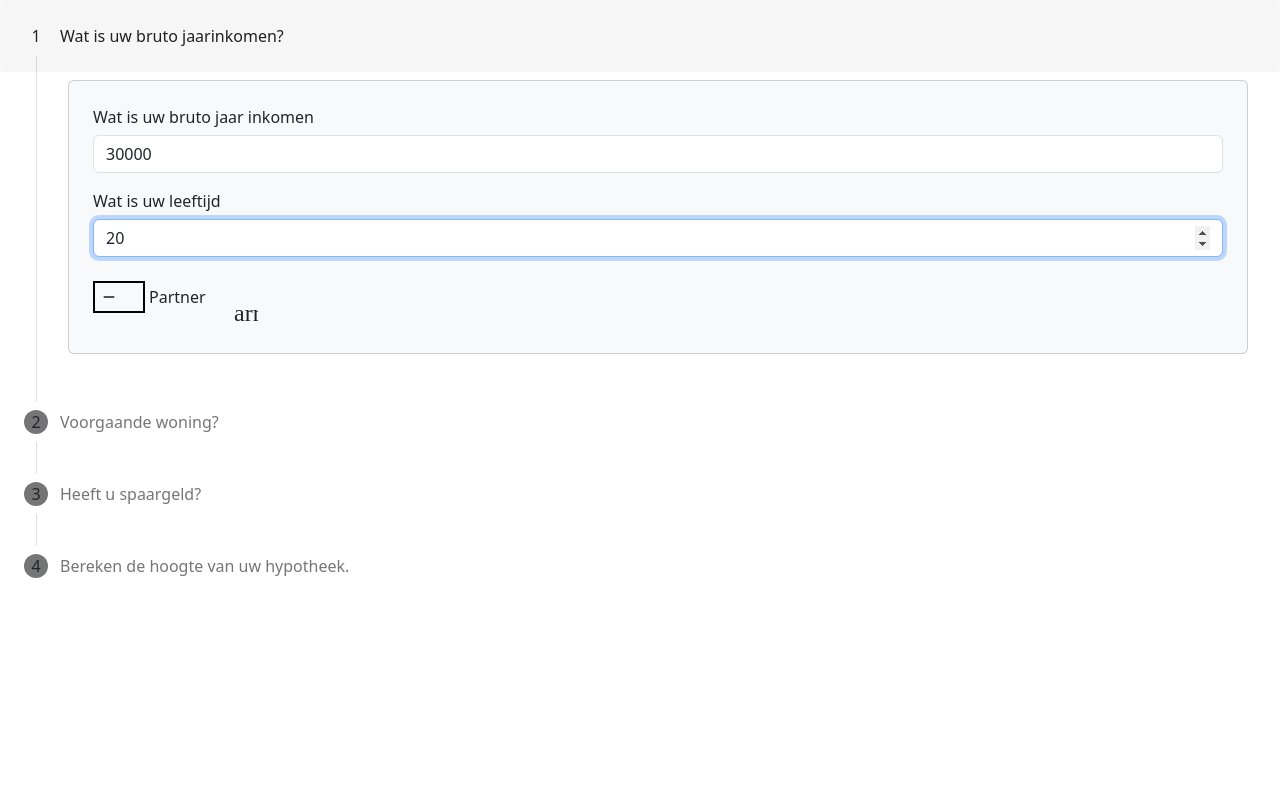
Test: FormComponent › Step 1 › should show an error on leeftijd when a invalid value is entered
This screenshot has width=1280, height=800.
Clear the number field labelled "Wat is uw leeftijd": (658, 238) [93,219,1223,257]
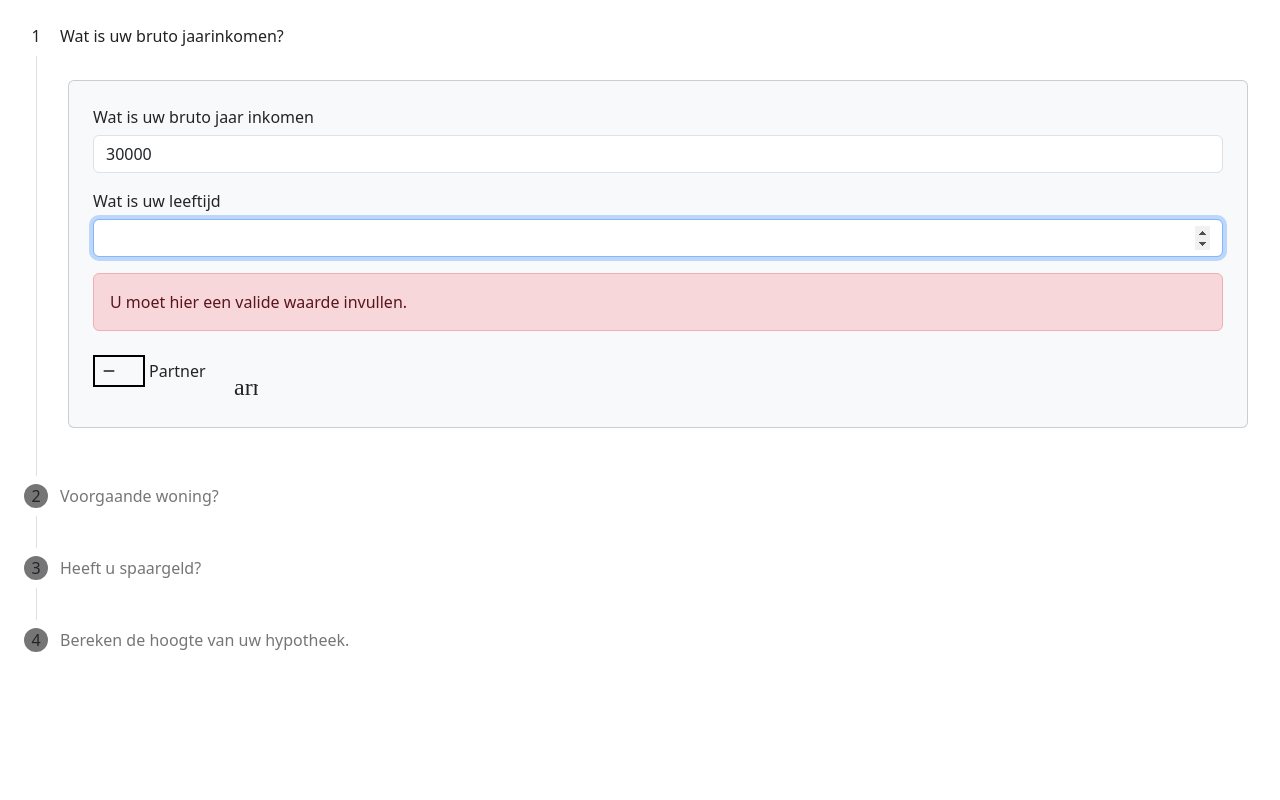
Expected: the text "U moet hier een valide waarde invullen." is shown, [110,291,407,313]
